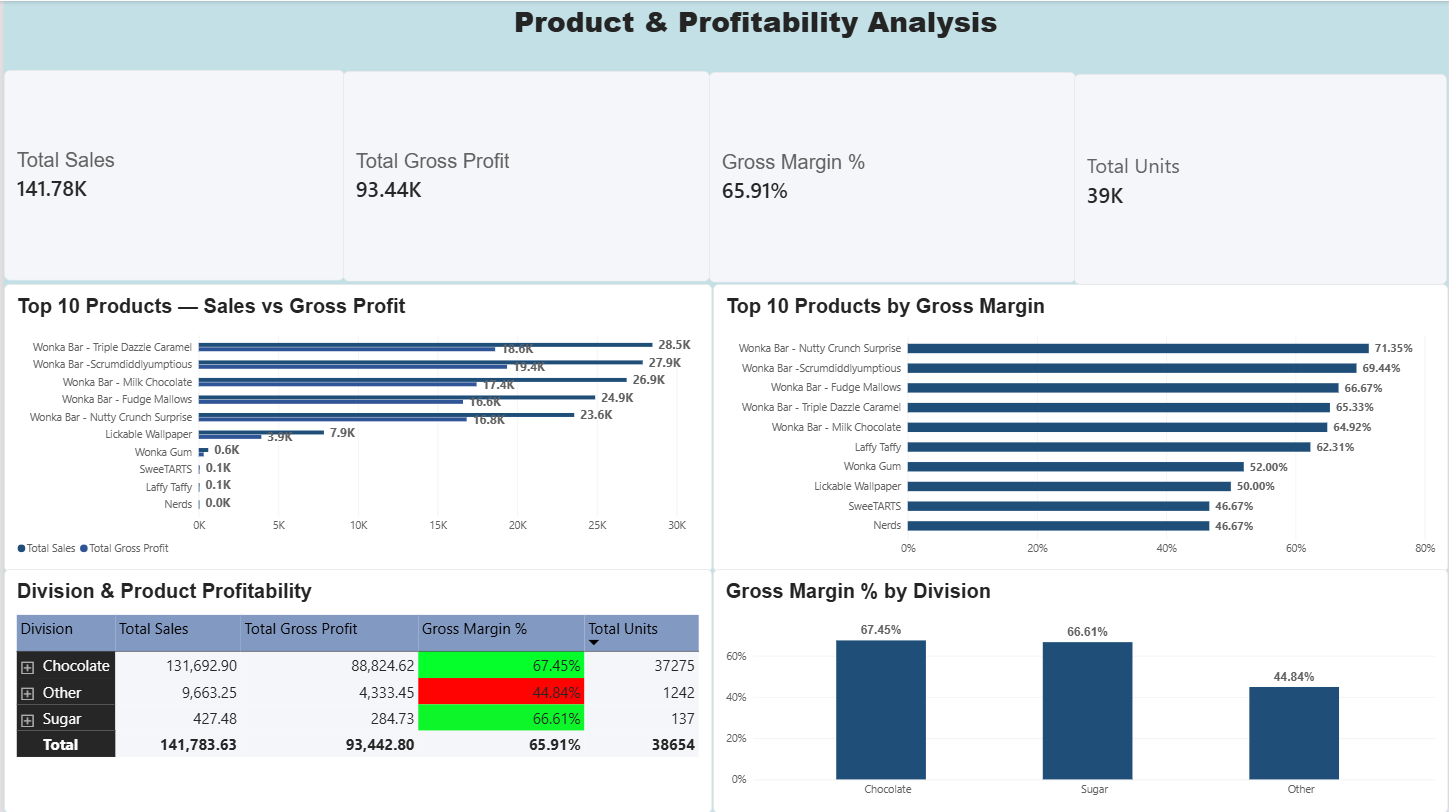

Layout of this report page (visuals, bound fields, positions):
{"tool":"powerbi","page":{"name":"Product & Profitability Analysis","canvas":[1920,1080],"ordinal":2},"visuals":[{"type":"cardVisual","fields":{"Data":["SALES.Total Sales"]},"box":[0,91.9,453.6,280.4],"z":0},{"type":"cardVisual","fields":{"Data":["SALES.Total Gross Profit"]},"box":[451.2,93.3,488.8,280.4],"z":1000},{"type":"cardVisual","fields":{"Data":["SALES.Gross Margin %"]},"box":[937.6,94.6,488.8,280.4],"z":2000},{"type":"cardVisual","fields":{"Data":["SALES.Total Units"]},"box":[1423.5,96.5,496.5,280.4],"z":3000},{"type":"clusteredBarChart","title":"Top 10 Products — Sales vs Gross Profit","fields":{"Category":["PRODUCT.Product Name"],"Y":["SALES.Total Sales","SALES.Total Gross Profit"]},"box":[0,377,942.4,383.1],"z":4000},{"type":"barChart","title":"Top 10 Products by Gross Margin","fields":{"Category":["PRODUCT.Product Name"],"Y":["SALES.Gross Margin %"]},"box":[942.4,377,977.6,383.1],"z":5000},{"type":"columnChart","title":"Gross Margin % by Division","fields":{"Category":["SALES.Division"],"Y":["SALES.Gross Margin %"]},"box":[942.4,755.4,977.6,324.9],"z":6000},{"type":"pivotTable","title":"Division & Product Profitability","fields":{"Rows":["SALES.Division","PRODUCT.Product Name"],"Values":["SALES.Total Sales","SALES.Total Gross Profit","SALES.Gross Margin %","SALES.Total Units"]},"box":[0,755.4,942.4,324.9],"z":7000},{"type":"textbox","box":[656,0,688,96],"z":8000}]}

Visuals, with their boxes in screenshot pixels (x1, y1, x2, y2), scaled from the page's 1920x1080 canvas onto the 1449x812 screenshot:
cardVisual - SALES.Total Sales: Rect(0, 69, 342, 280)
cardVisual - SALES.Total Gross Profit: Rect(341, 70, 709, 281)
cardVisual - SALES.Gross Margin %: Rect(708, 71, 1076, 282)
cardVisual - SALES.Total Units: Rect(1074, 73, 1448, 283)
"Top 10 Products — Sales vs Gross Profit" clusteredBarChart: Rect(0, 283, 711, 571)
"Top 10 Products by Gross Margin" barChart: Rect(711, 283, 1448, 571)
"Gross Margin % by Division" columnChart: Rect(711, 568, 1448, 811)
"Division & Product Profitability" pivotTable: Rect(0, 568, 711, 811)
textbox: Rect(495, 0, 1014, 72)
